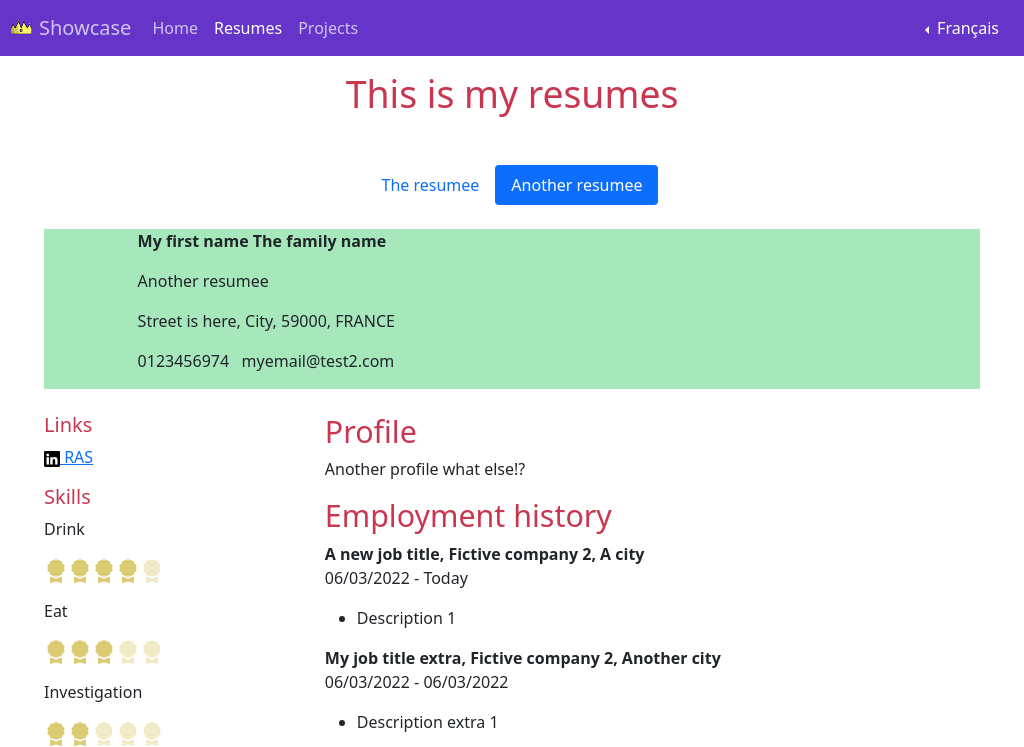
Test: The Resume section end to end test › should Change the resume display from the default to to another one
Click the link "The resumee": [431, 185] box top-left (382, 174), bottom-right (480, 196)
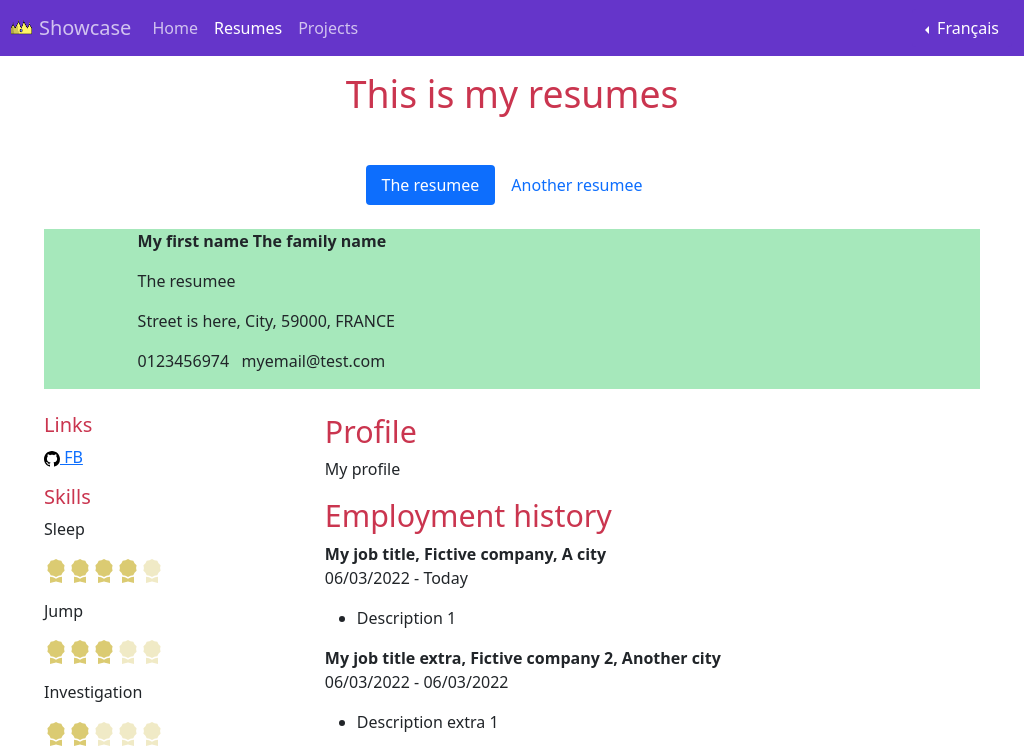
expect the text with id "resumeElementTitle" reads "The resumee": met, box top-left (138, 270), bottom-right (236, 292)
